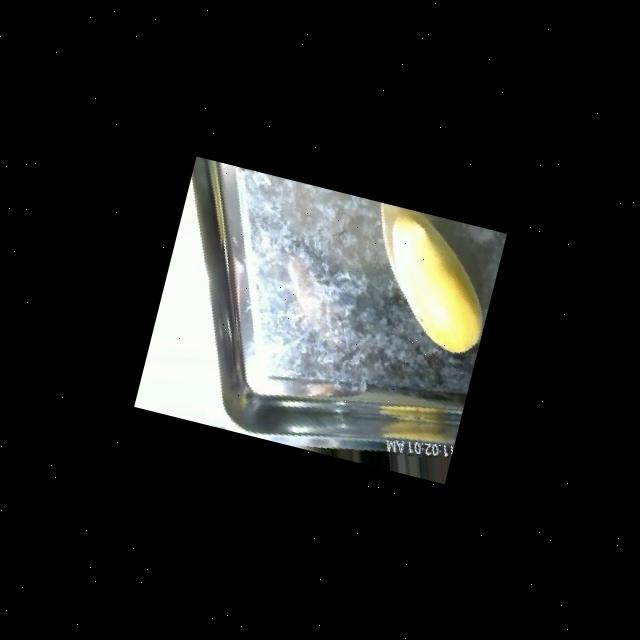Mango: (348, 202, 506, 360)
